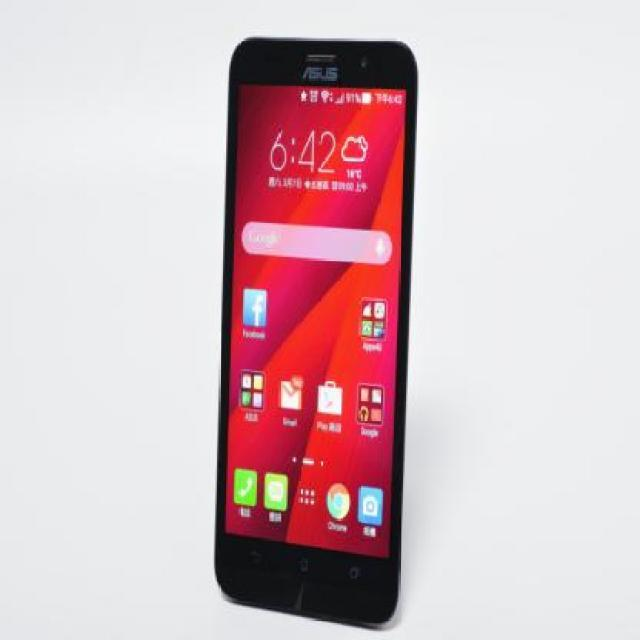phone: (228, 29, 404, 626)
